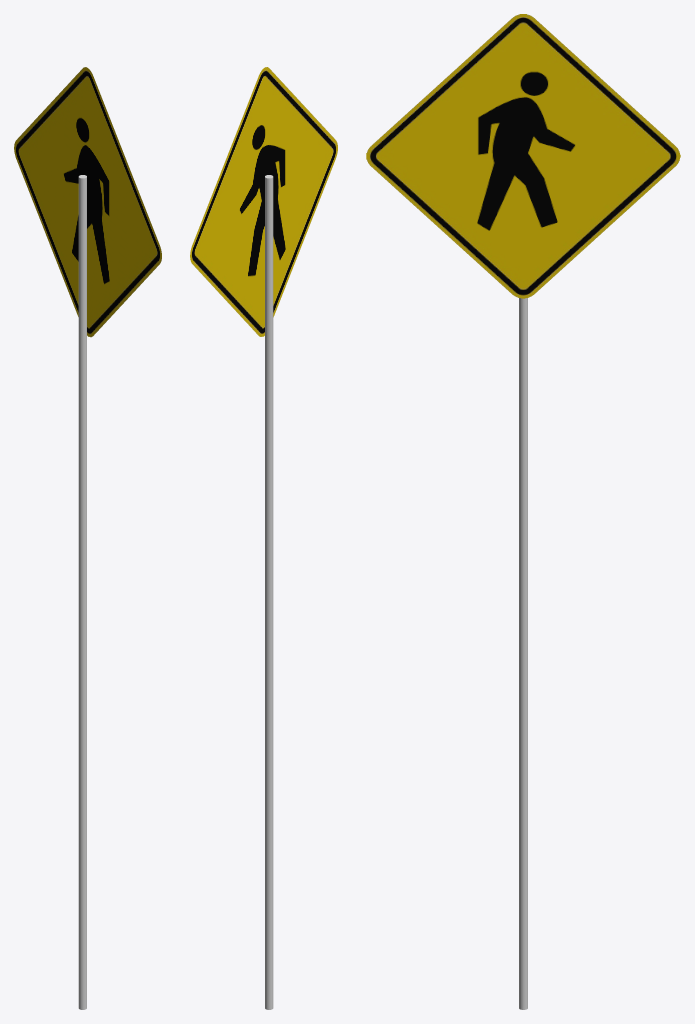
The model's file is pejalan-kaki.fbx.
3 views of the same model, side by side, from view 1: azimuth 30°, elevation 25°; view 2: azimuth 150°, elevation 25°; view 3: azimuth 270°, elevation 25° (orthographic). The views are drawn at different scales.
Visible parts, largest first — view 1: pejalan-kaki, Cylinder; view 2: pejalan-kaki, Cylinder; view 3: pejalan-kaki, Cylinder.
Boxes of the visible parts, x1,y1,x2,y2 form: pejalan-kaki: (14, 67, 161, 337); Cylinder: (78, 175, 86, 1009); pejalan-kaki: (190, 67, 337, 336); Cylinder: (265, 175, 273, 1009); pejalan-kaki: (366, 14, 680, 298); Cylinder: (519, 298, 527, 1009).
Size of the model in its own units: 3.43 by 350 by 100.
